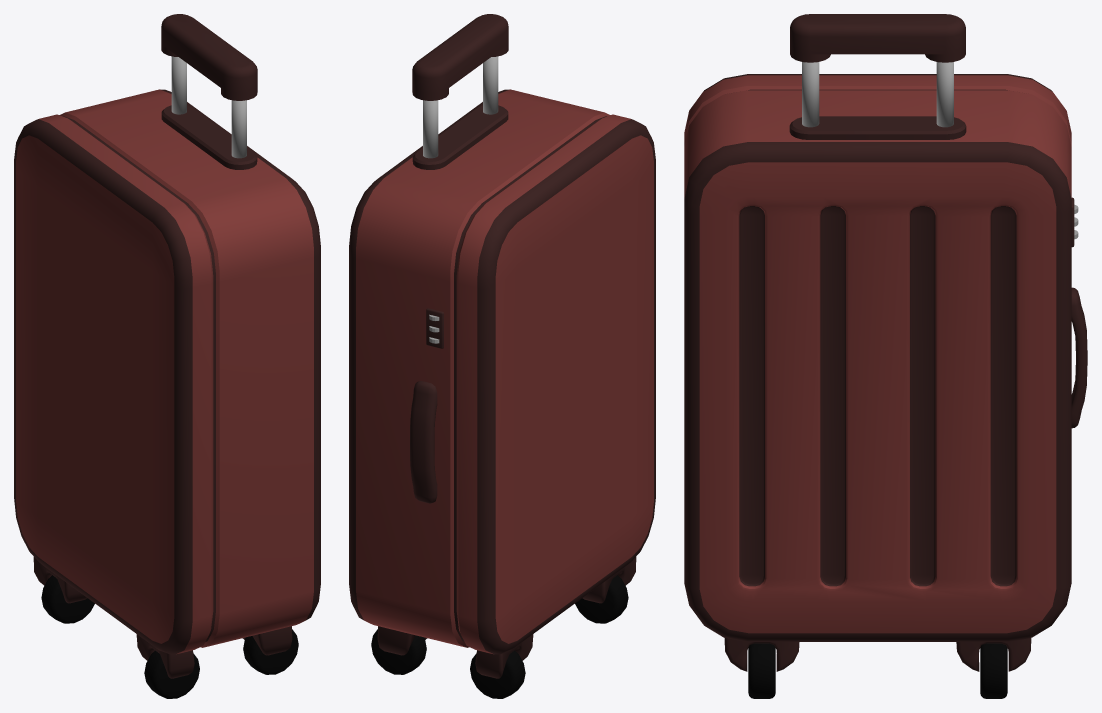
File: 17_7_Model_AIRPORT_0.obj
The picture shows the model from 3 angles, left to right: view 1: azimuth 30°, elevation 25°; view 2: azimuth 150°, elevation 25°; view 3: azimuth 270°, elevation 25°; orthographic projection. The views are drawn at different scales.
Visible parts, largest first — view 1: 17.7.Model_AIRPORT_0; view 2: 17.7.Model_AIRPORT_0; view 3: 17.7.Model_AIRPORT_0.
Part boxes in pixels (x1=…): 17.7.Model_AIRPORT_0: x1=14, y1=14, x2=320, y2=698; 17.7.Model_AIRPORT_0: x1=349, y1=14, x2=655, y2=698; 17.7.Model_AIRPORT_0: x1=684, y1=14, x2=1087, y2=698.
Size of the model in its own units: 0.2699 by 1.04 by 0.5652.
Materials: 1 (1 with a texture image).
